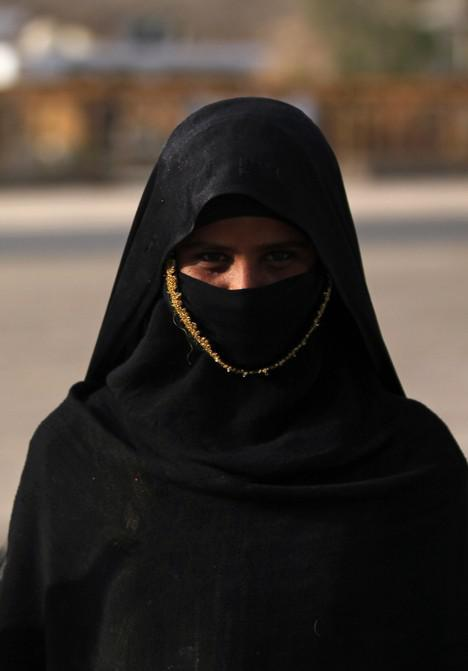WRONG: (177, 223, 330, 376)
